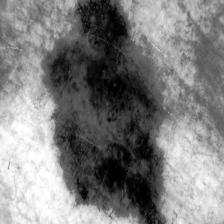Benign Marking or Mole: (40, 0, 179, 224)
